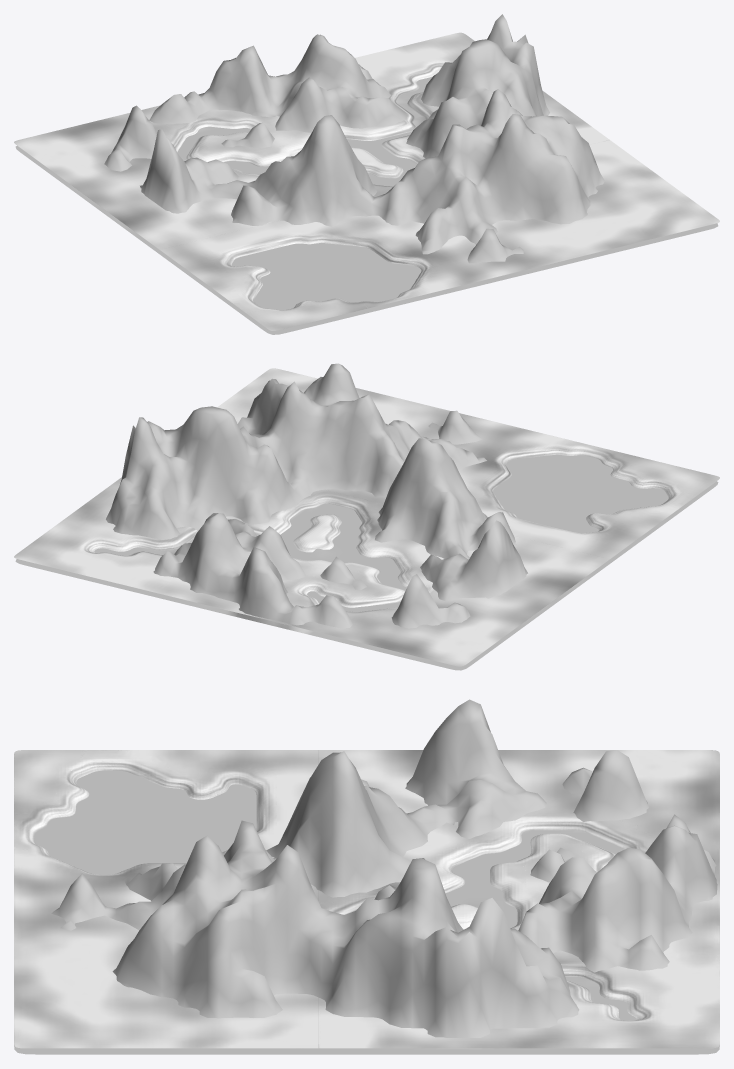
File: Area2.fbx
3 renders of one model, top to bottom at view 1: azimuth 30°, elevation 25°; view 2: azimuth 150°, elevation 25°; view 3: azimuth 270°, elevation 25°, orthographic. The views are drawn at different scales.
Parts seen in each view (by area): view 1: 骞抽潰_Baked001, 骞抽潰_002; view 2: 骞抽潰_Baked001, 骞抽潰_002; view 3: 骞抽潰_Baked001, 骞抽潰_002.
Part boxes in pixels (left/top/right/bottom): 骞抽潰_Baked001: left=15, top=14, right=718, bottom=334; 骞抽潰_002: left=14, top=32, right=719, bottom=330; 骞抽潰_Baked001: left=15, top=363, right=718, bottom=670; 骞抽潰_002: left=14, top=368, right=719, bottom=666; 骞抽潰_Baked001: left=14, top=699, right=719, bottom=1054; 骞抽潰_002: left=14, top=750, right=719, bottom=1048.
Bounding box in the file's own units: 189 × 39.7 × 189.
